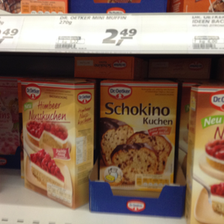cake: (19, 78, 97, 208), (99, 80, 180, 192)
